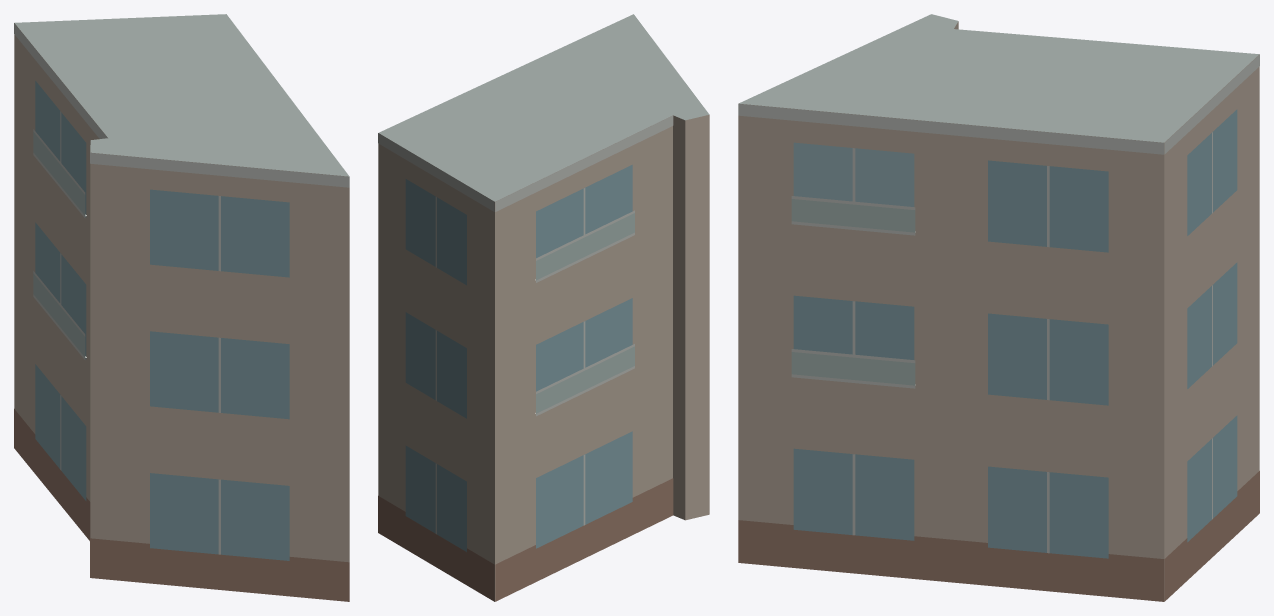
The model's file is survey-upis-32923590.glb.
3 renders of one model, left to right at view 1: azimuth 30°, elevation 25°; view 2: azimuth 150°, elevation 25°; view 3: azimuth 270°, elevation 25°, orthographic. The views are drawn at different scales.
Visible parts, largest first — view 1: survey-upis-32923590.tmp; view 2: survey-upis-32923590.tmp; view 3: survey-upis-32923590.tmp.
Part boxes in pixels (x1,y1,x2,y2): survey-upis-32923590.tmp: (14,14,349,601); survey-upis-32923590.tmp: (378,14,709,601); survey-upis-32923590.tmp: (738,14,1259,601).
Bounding box in the file's own units: 5.6 × 9.3 × 9.58.
